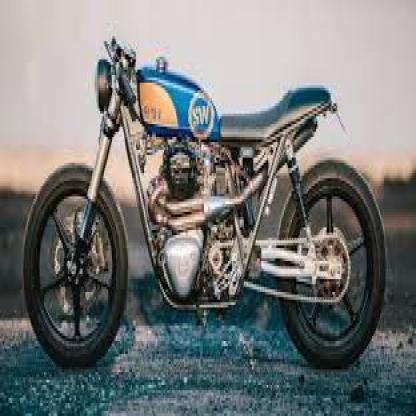Motorcycle: (18, 32, 389, 376)
